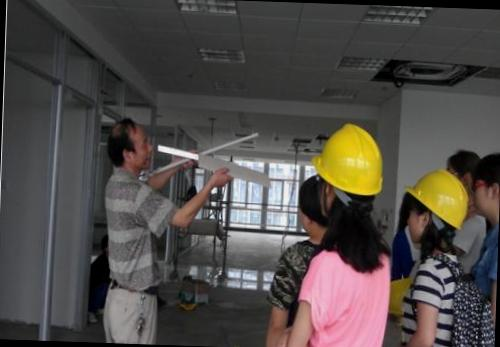no_helmet: (108, 116, 153, 174), (473, 149, 500, 220), (444, 143, 479, 193)
